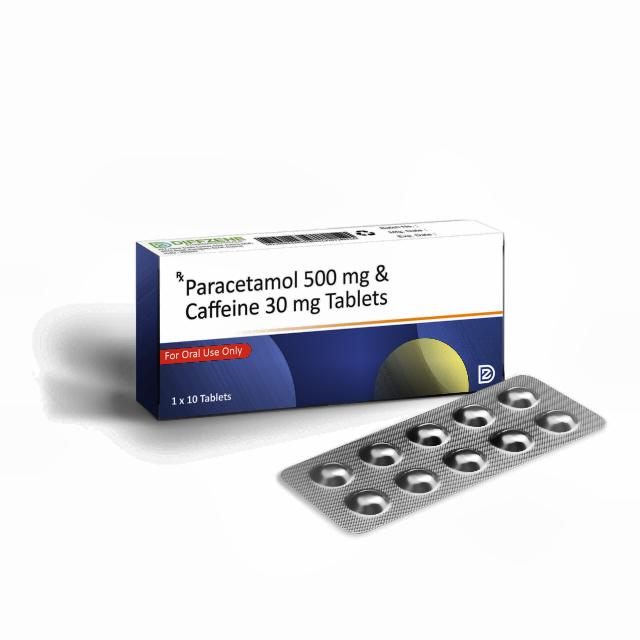Paracetamol: (166, 266, 403, 327)
